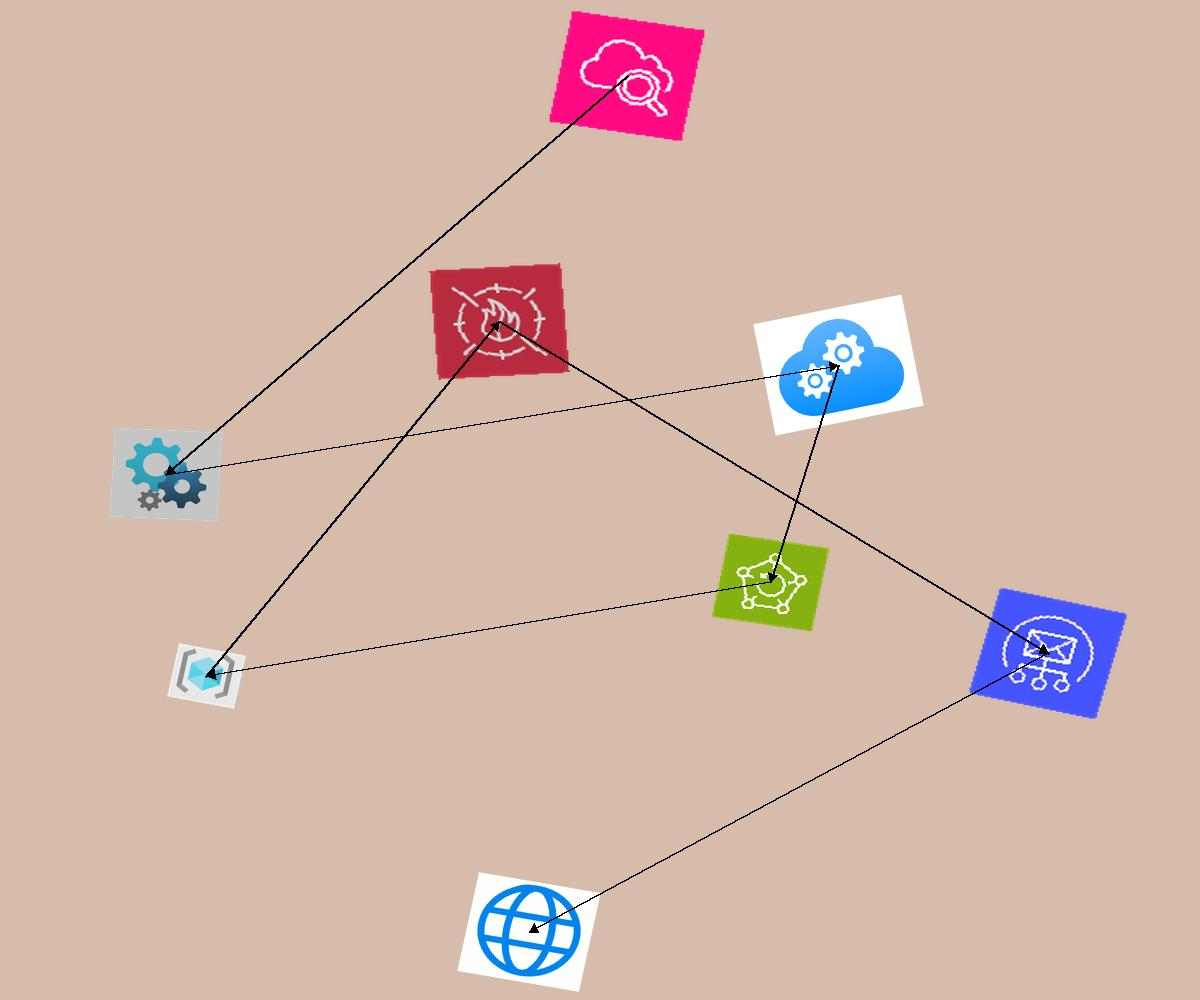AWS-Backup: (711, 533, 830, 632)
AWS-CloudWatch: (548, 10, 706, 142)
AWS-Simple-Email-Service: (968, 587, 1128, 720)
AWS-WAF: (429, 263, 570, 380)
Azure_api: (109, 427, 223, 522)
Azure_cloud_services: (753, 294, 924, 436)
Azure_http: (457, 872, 601, 992)
Azure_resource_group: (167, 643, 246, 709)
